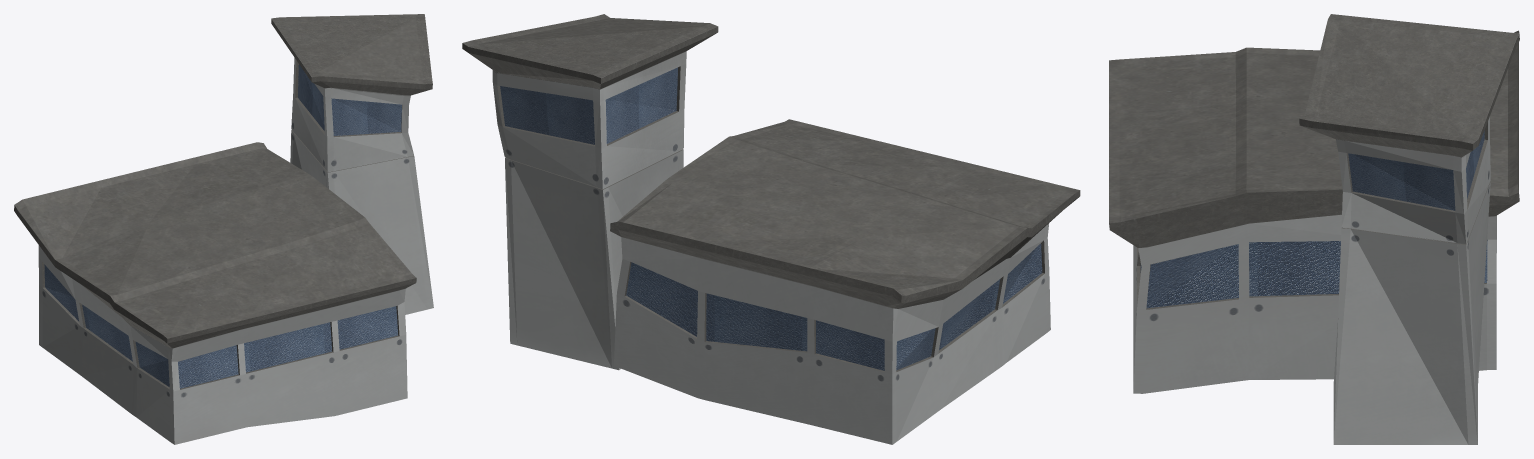
File: Escritório Destruído (1).fbx
3 renders of one model, left to right at view 1: azimuth 30°, elevation 25°; view 2: azimuth 150°, elevation 25°; view 3: azimuth 270°, elevation 25°, orthographic. The views are drawn at different scales.
Visible parts, largest first — view 1: Princiapl3, Torre1; view 2: Princiapl3, Torre1; view 3: Princiapl3, Torre1.
Boxes of the visible parts, <box> form: Princiapl3: <box>14,142,416,444</box>; Torre1: <box>271,14,433,314</box>; Princiapl3: <box>610,119,1080,444</box>; Torre1: <box>462,14,718,370</box>; Princiapl3: <box>1109,30,1519,393</box>; Torre1: <box>1299,14,1519,444</box>.
Size of the model in its own units: 85.63 by 55.96 by 56.99.
Materials: 2 (2 with a texture image).
